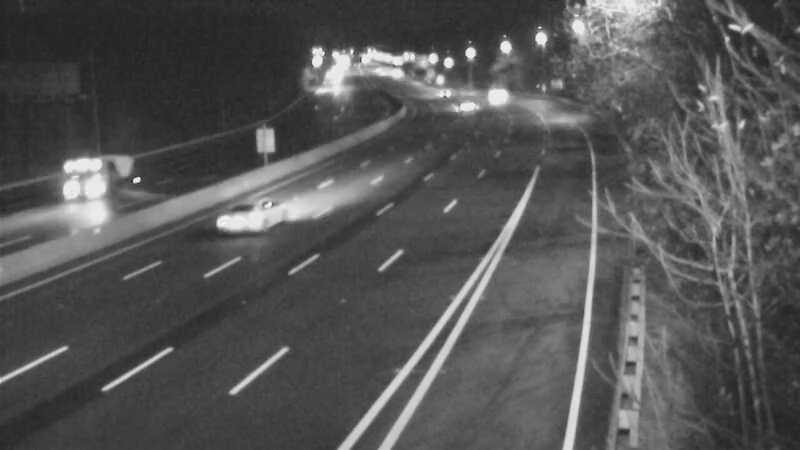vehicle: (206, 165, 286, 245), (51, 138, 131, 218), (371, 50, 421, 100), (468, 70, 518, 120), (416, 66, 466, 116), (434, 80, 484, 130)
